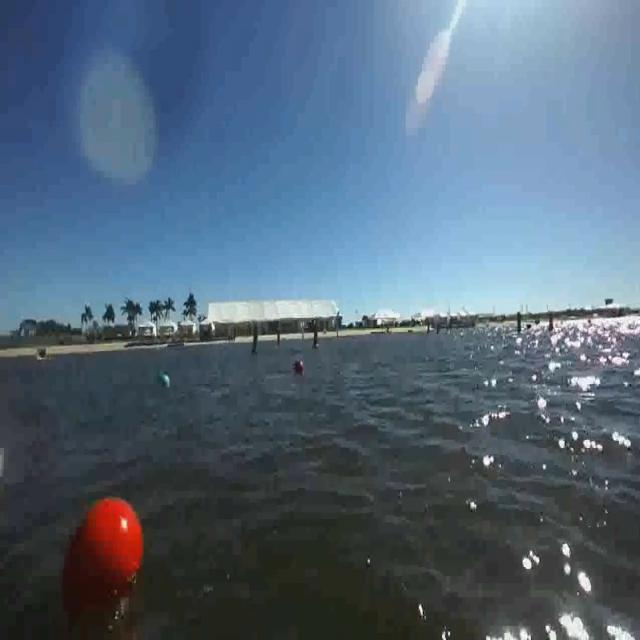green-buoy: (152, 368, 173, 392)
green-column-buoy: (250, 323, 262, 356)
red-buoy: (50, 489, 152, 628), (292, 357, 305, 379)
red-column-buoy: (276, 330, 282, 347)
